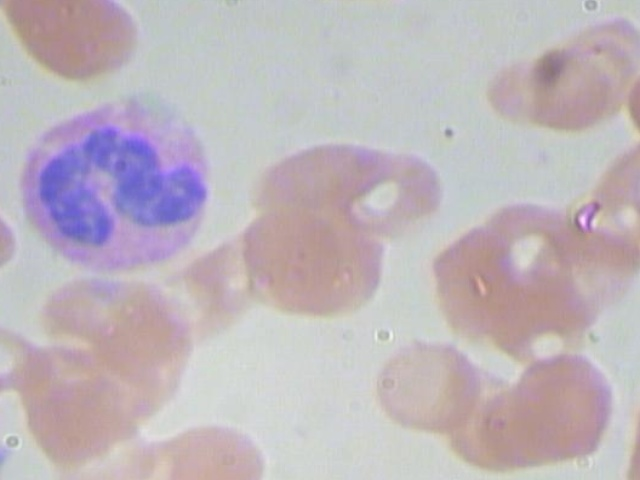RBC: (226, 198, 387, 323), (363, 321, 490, 446), (502, 339, 628, 464), (425, 356, 552, 480), (65, 287, 196, 388), (0, 0, 156, 84), (463, 193, 590, 295), (254, 125, 381, 227), (18, 375, 161, 465), (319, 143, 445, 245), (511, 34, 614, 137), (146, 252, 253, 345), (142, 410, 284, 480), (28, 410, 170, 480), (0, 152, 21, 285)
WBC: (0, 87, 226, 271)
